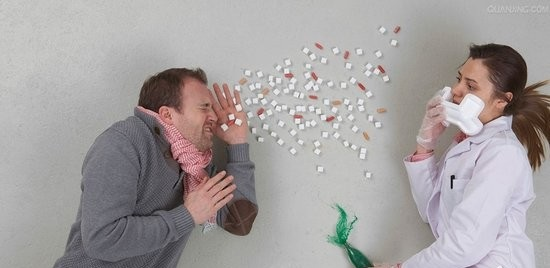face: (178, 77, 220, 149), (447, 62, 489, 125)
